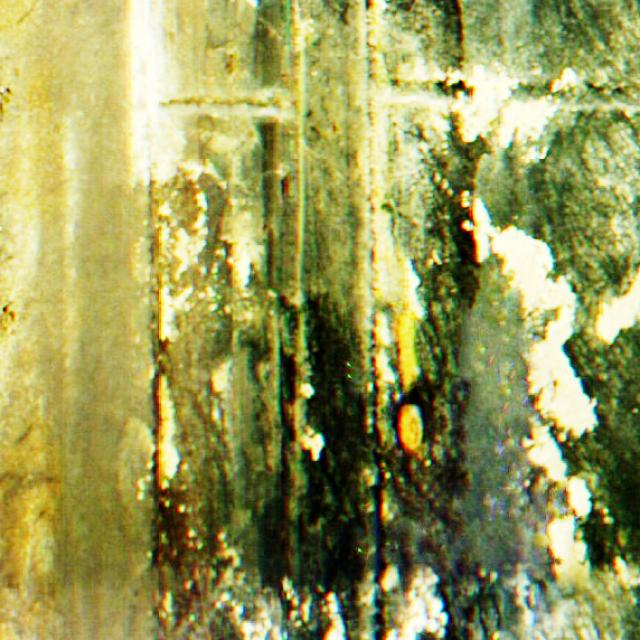Corrosion: (395, 311, 419, 384), (398, 405, 421, 451)
